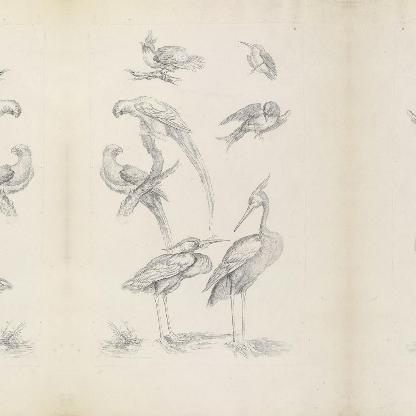Bird: (110, 100, 212, 236), (113, 233, 226, 355), (202, 183, 286, 347), (100, 144, 174, 246), (138, 34, 209, 84), (0, 143, 33, 247), (0, 99, 23, 237), (223, 108, 277, 150), (241, 41, 277, 87)
